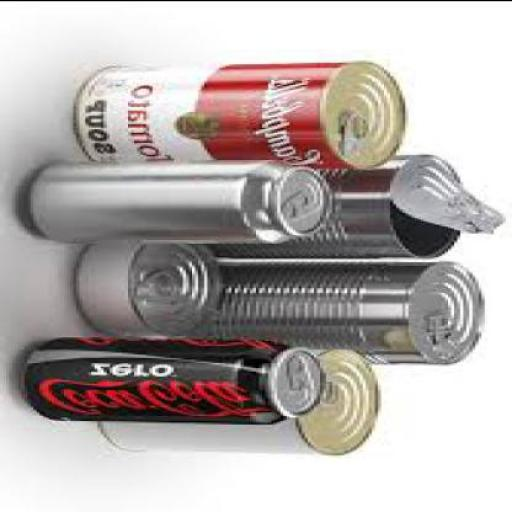metal: (76, 64, 409, 170), (186, 154, 509, 257), (92, 348, 381, 456), (183, 263, 484, 365), (18, 334, 328, 427), (24, 162, 338, 245), (73, 245, 226, 338)
